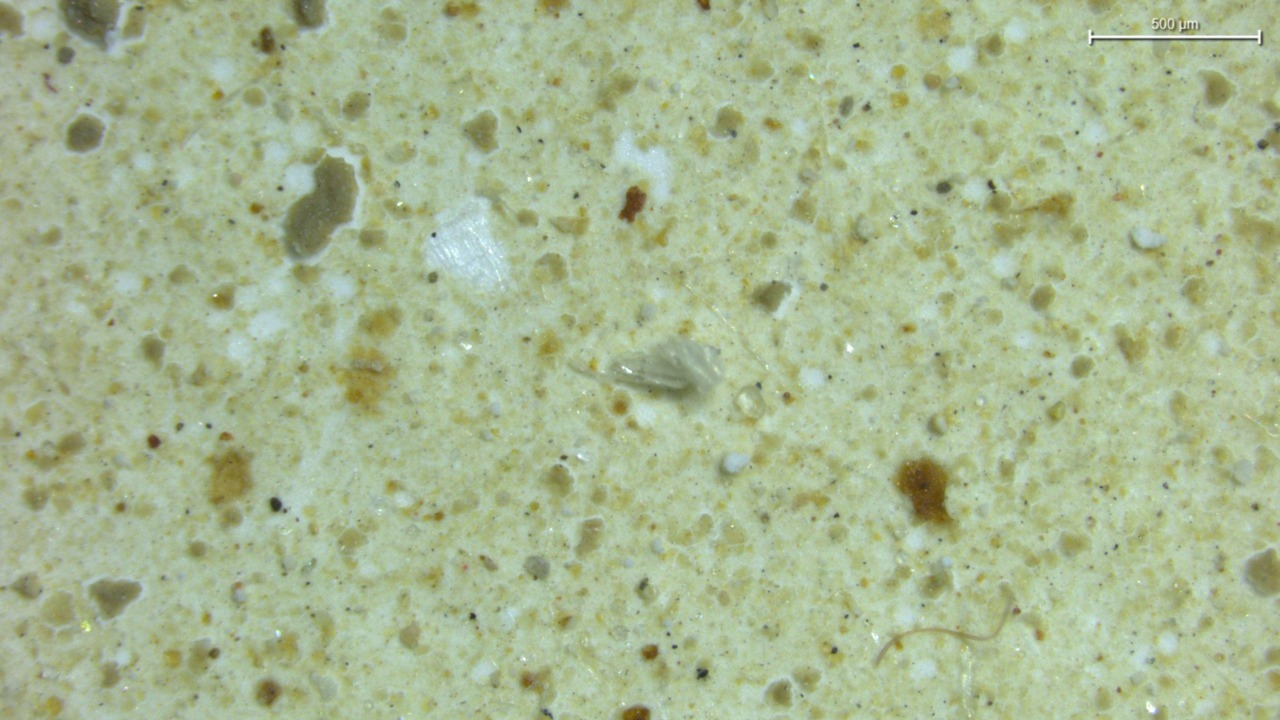microplastic_fragment: (594, 337, 722, 393), (734, 384, 765, 418), (1129, 227, 1167, 250), (722, 453, 750, 475)
